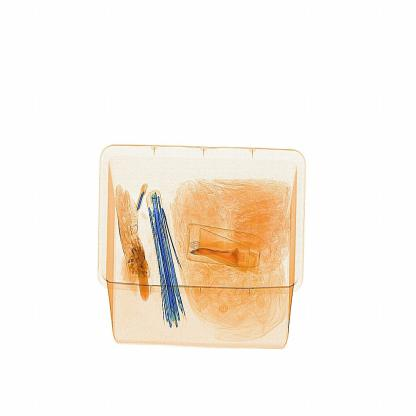pliers: (131, 173, 151, 220)
